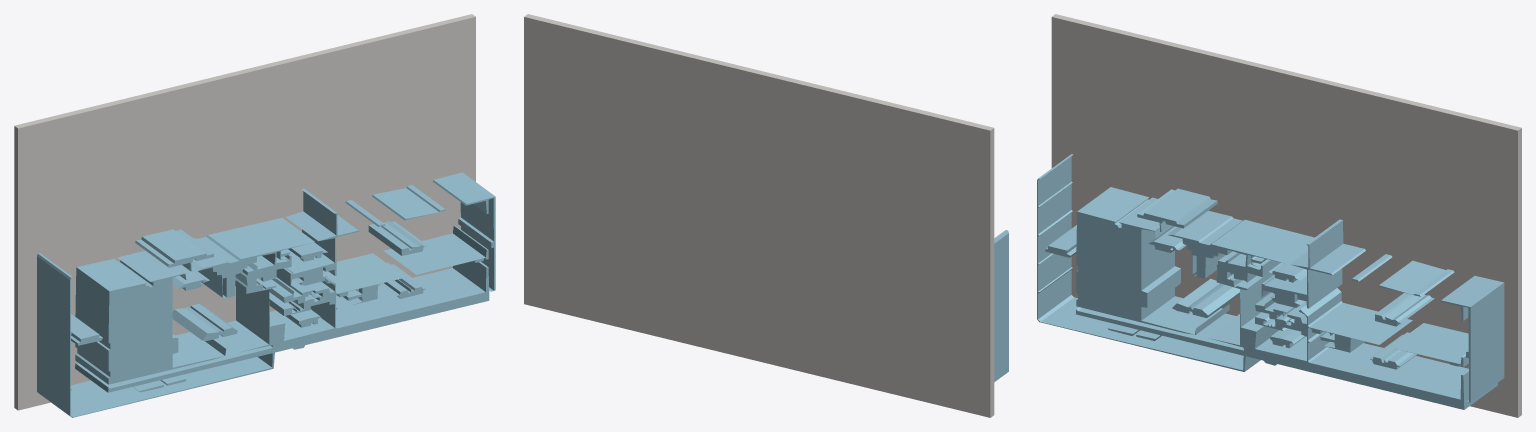
3 views of the same model, side by side, from view 1: azimuth 30°, elevation 25°; view 2: azimuth 150°, elevation 25°; view 3: azimuth 330°, elevation 25° (orthographic).
Parts seen in each view (by area): view 1: world; view 2: world; view 3: world.
Boxes of the visible parts, x1,y1,x2,y2 form: world: (14,14,495,417); world: (524,14,1008,417); world: (1037,14,1521,417).
Bounding box in the file's own units: 10.23 × 6.02 × 1.43.
